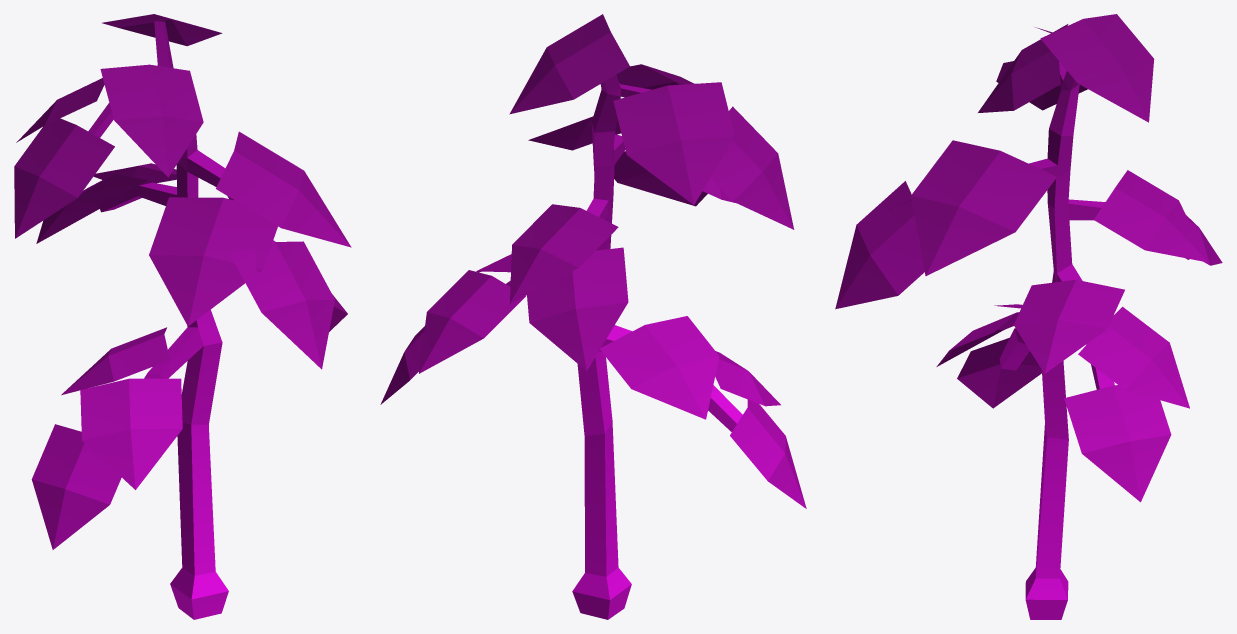
The model's file is SM_Prop_Plant_Bush_01_L.fbx.
3 views of the same model, side by side, from view 1: azimuth 30°, elevation 25°; view 2: azimuth 150°, elevation 25°; view 3: azimuth 270°, elevation 25° (orthographic). The views are drawn at different scales.
Visible parts, largest first — view 1: SM_Prop_Plant_Bush_01_L; view 2: SM_Prop_Plant_Bush_01_L; view 3: SM_Prop_Plant_Bush_01_L.
Part boxes in pixels (left/top/right/bottom): SM_Prop_Plant_Bush_01_L: left=14, top=14, right=351, bottom=619; SM_Prop_Plant_Bush_01_L: left=380, top=14, right=806, bottom=619; SM_Prop_Plant_Bush_01_L: left=835, top=14, right=1222, bottom=619.
Size of the model in its own units: 62.71 by 98.88 by 59.72.
